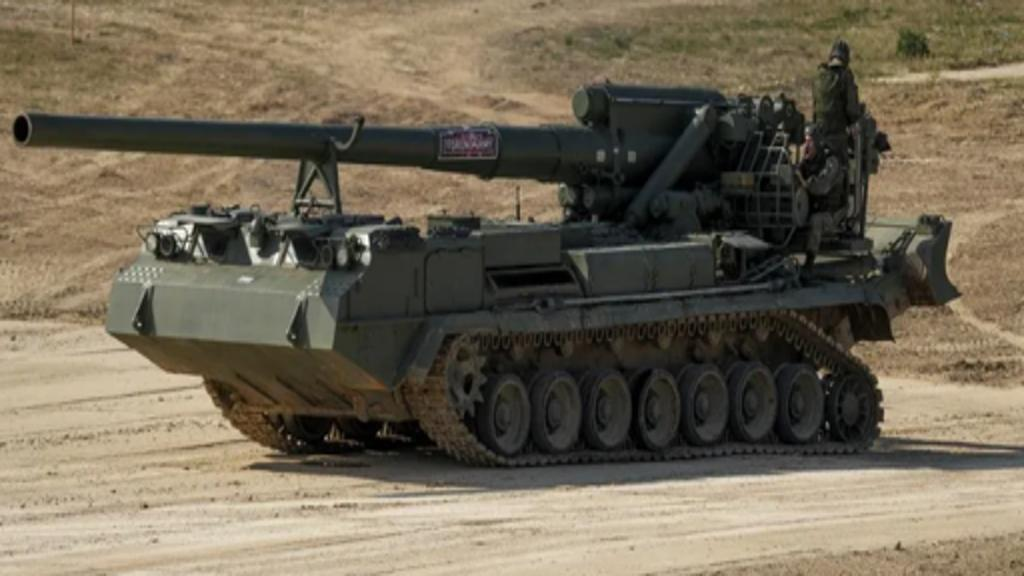ART: (8, 76, 956, 460)
